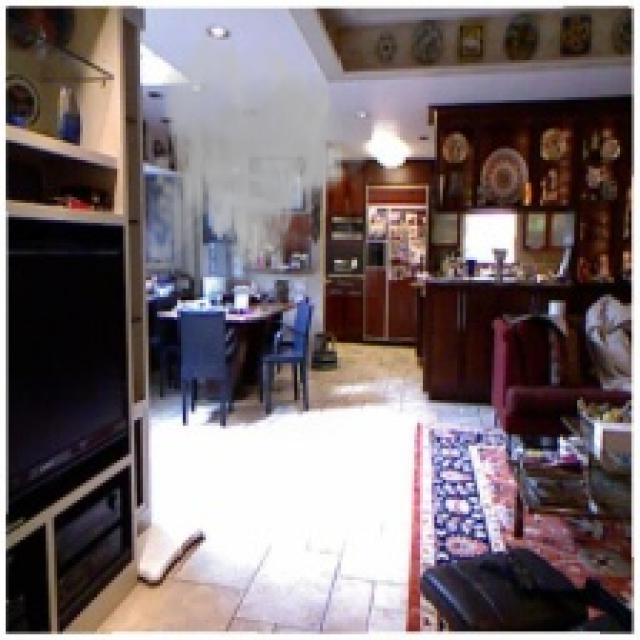smoke: (137, 29, 377, 297)
